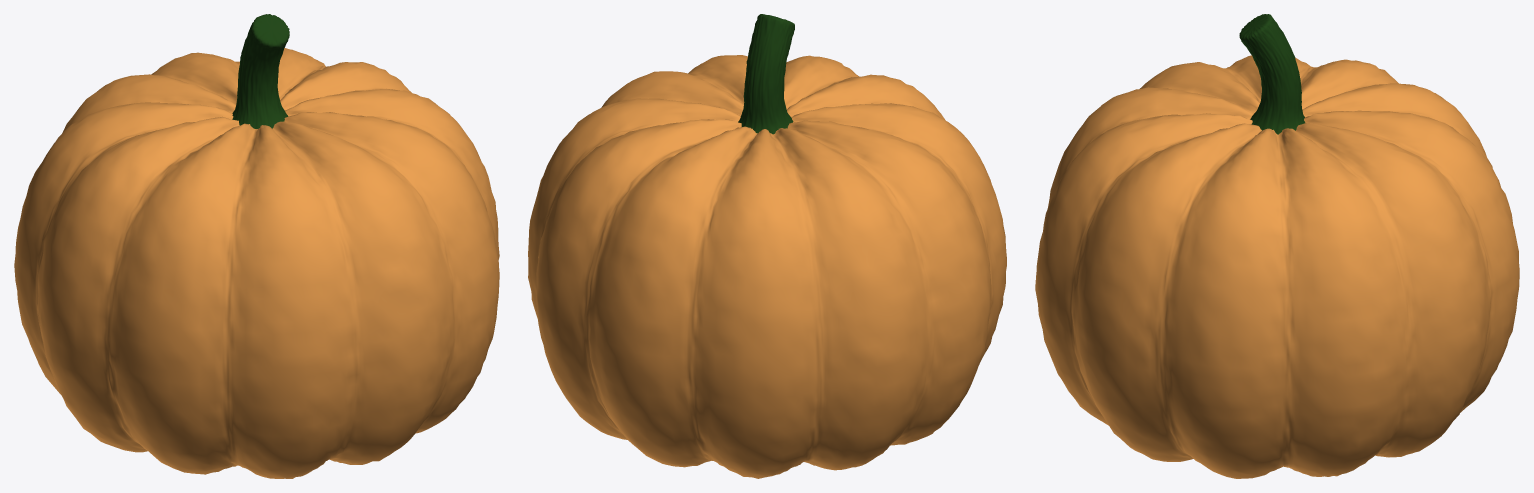
File: pumpkin3K.fbx
3 renders of one model, left to right at view 1: azimuth 30°, elevation 25°; view 2: azimuth 150°, elevation 25°; view 3: azimuth 270°, elevation 25°, orthographic.
Parts seen in each view (by area): view 1: Sphere.003, Cylinder.002; view 2: Sphere.003, Cylinder.002; view 3: Sphere.003, Cylinder.002.
Boxes of the visible parts, box(x1,y1,x2,y2) form: Sphere.003: box(14, 48, 499, 478); Cylinder.002: box(232, 14, 289, 128); Sphere.003: box(528, 55, 1006, 478); Cylinder.002: box(738, 14, 794, 134); Sphere.003: box(1035, 55, 1519, 478); Cylinder.002: box(1239, 14, 1305, 134).
Bounding box in the file's own units: 195 × 180 × 197.
